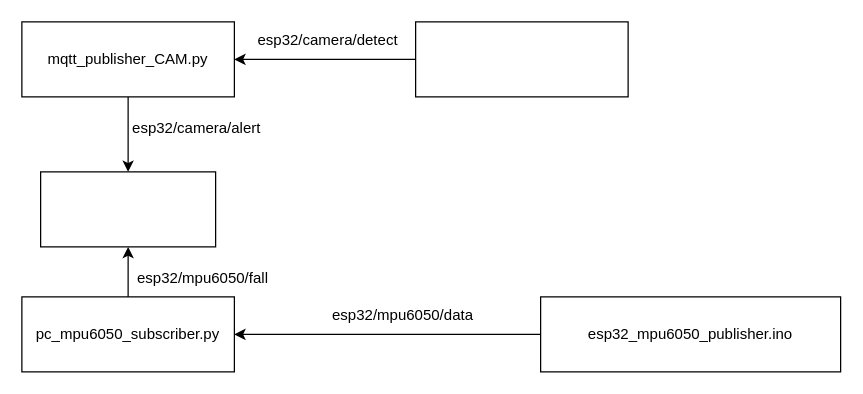
The diagram is 863 pixels wide and 394 high, and some of its shapes have lost their labels. Each missing label, with the centre of its shape:
CAM_subscriber.py: the point at 521,59
central_processing.py: the point at 127,209
